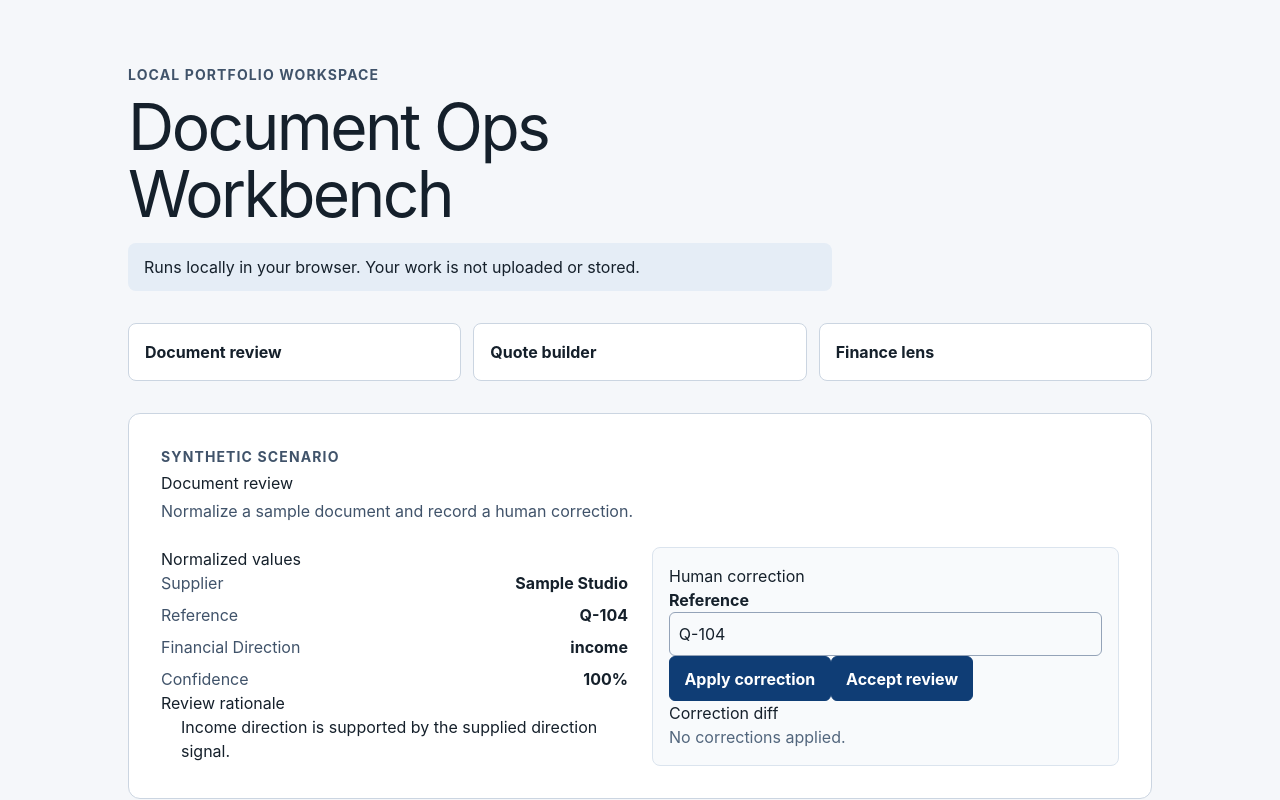
Test: operations workbench interactions › clears acceptance when a reviewer applies a correction
Click the button "Accept review": x=902, y=679 [831,656,973,701]
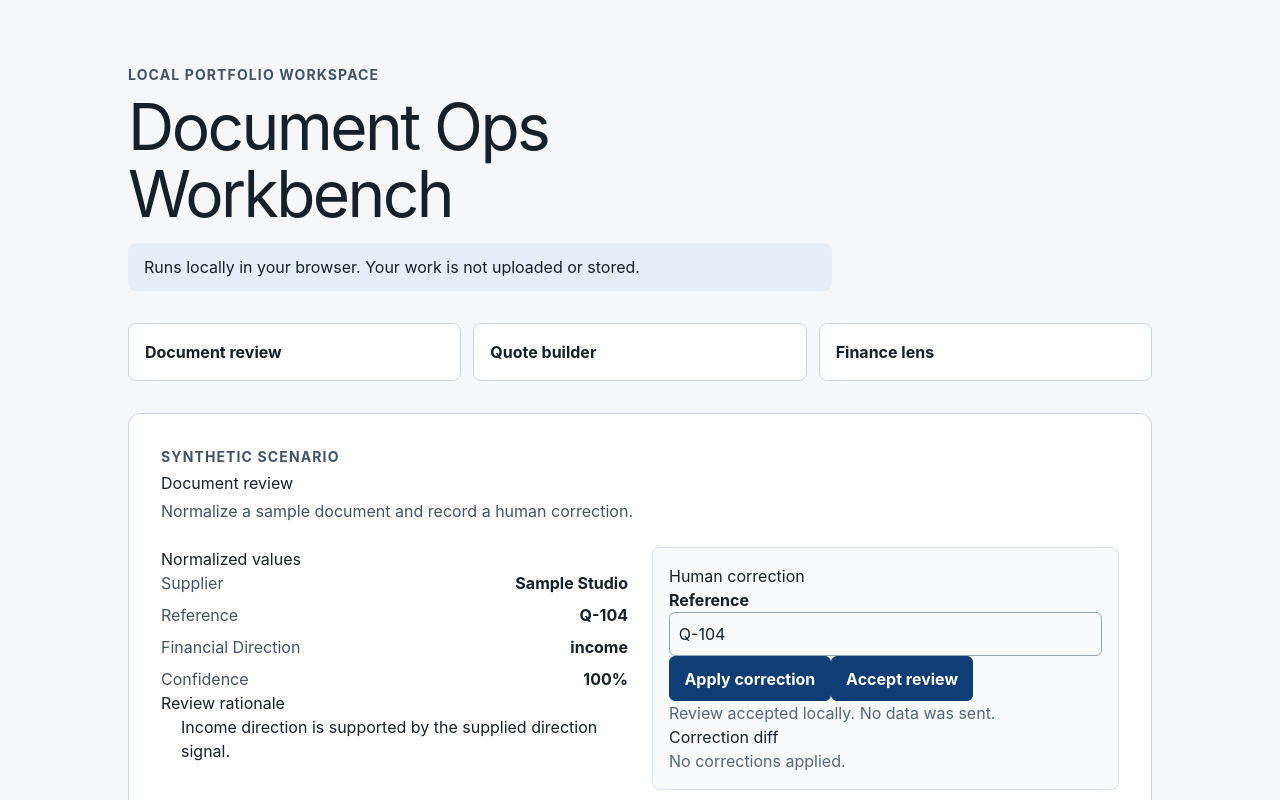
Replace the text in the field labelled "Reference" with "Q-105": x=886, y=634 [669,612,1102,656]
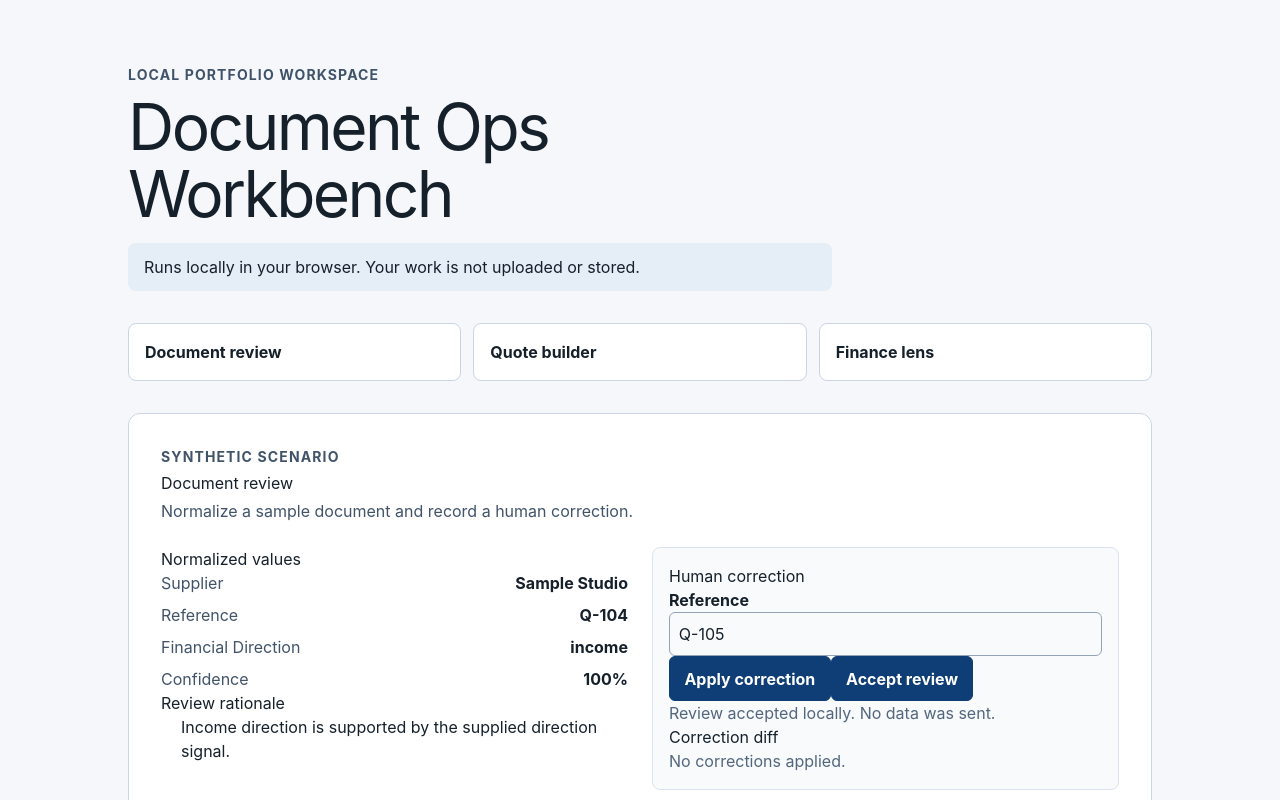
Click the button "Apply correction": x=750, y=679 [669,656,831,701]
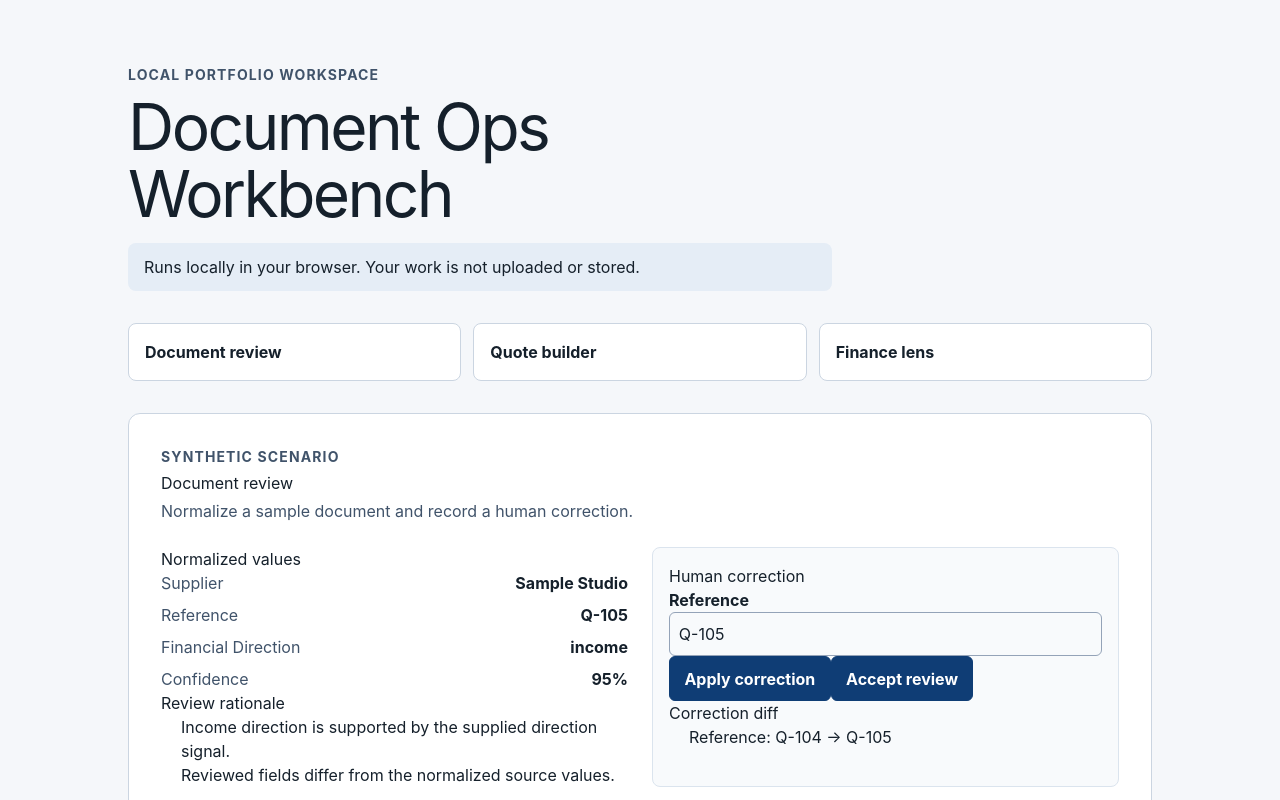
Result: the message "Review accepted locally. No data was sent." is gone
